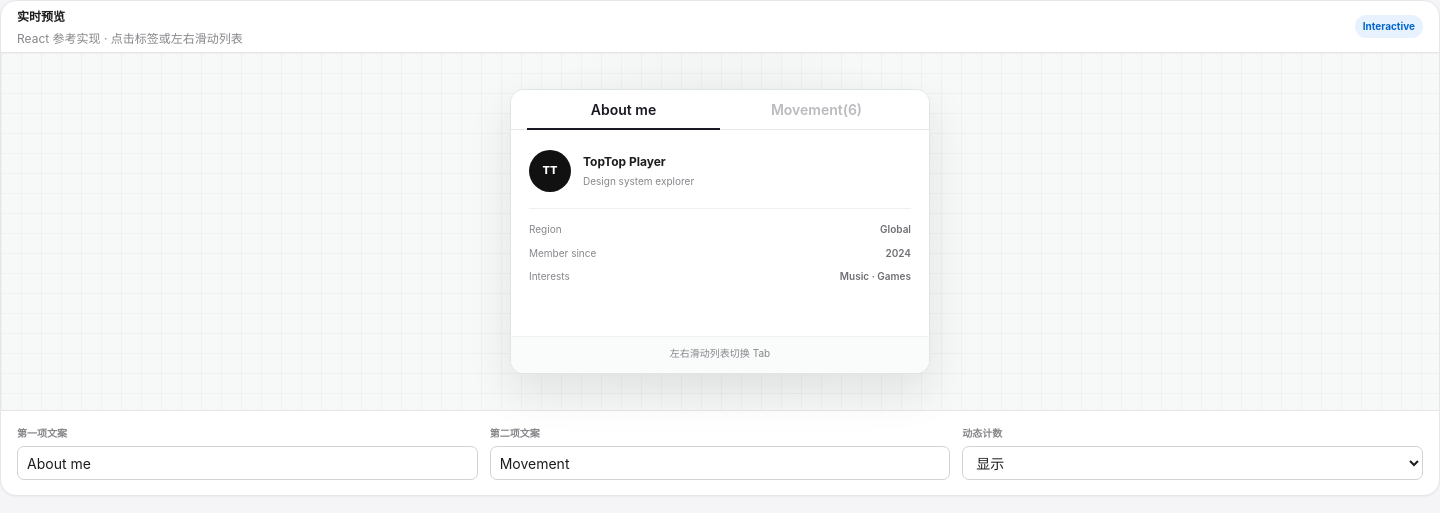
Test: ComponentPreview › supports the dynamic count boundary
The width and height of the screenshot is (1440, 513).
Step 1. Select "隐藏" in the dropdown labelled "动态计数" → (1193, 463), box top-left (962, 446), bottom-right (1423, 480)
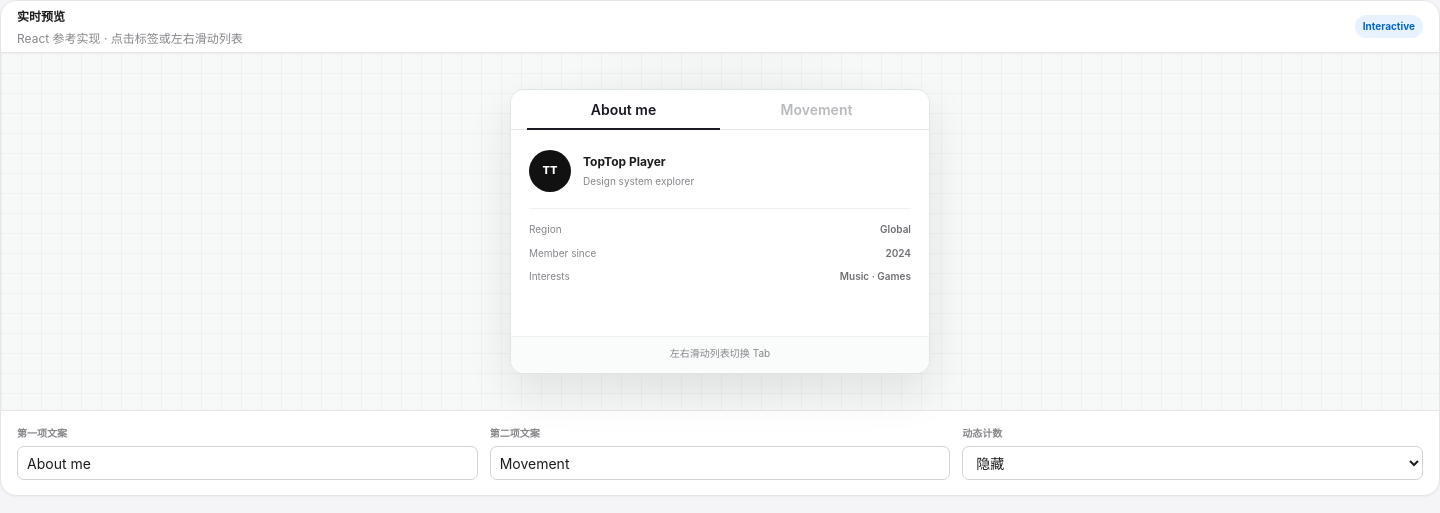
Expected: the tab "Movement" is shown, top-left (720, 90), bottom-right (913, 129)
Expected: the tab "Movement(6)" is gone
